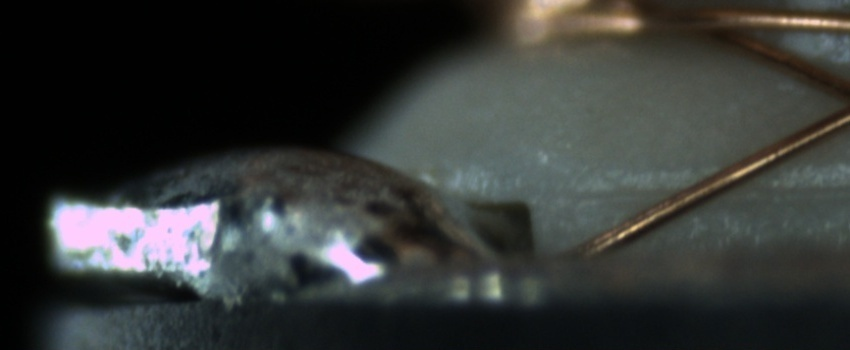CL: (809, 63, 850, 137)
DL: (576, 157, 843, 224)
